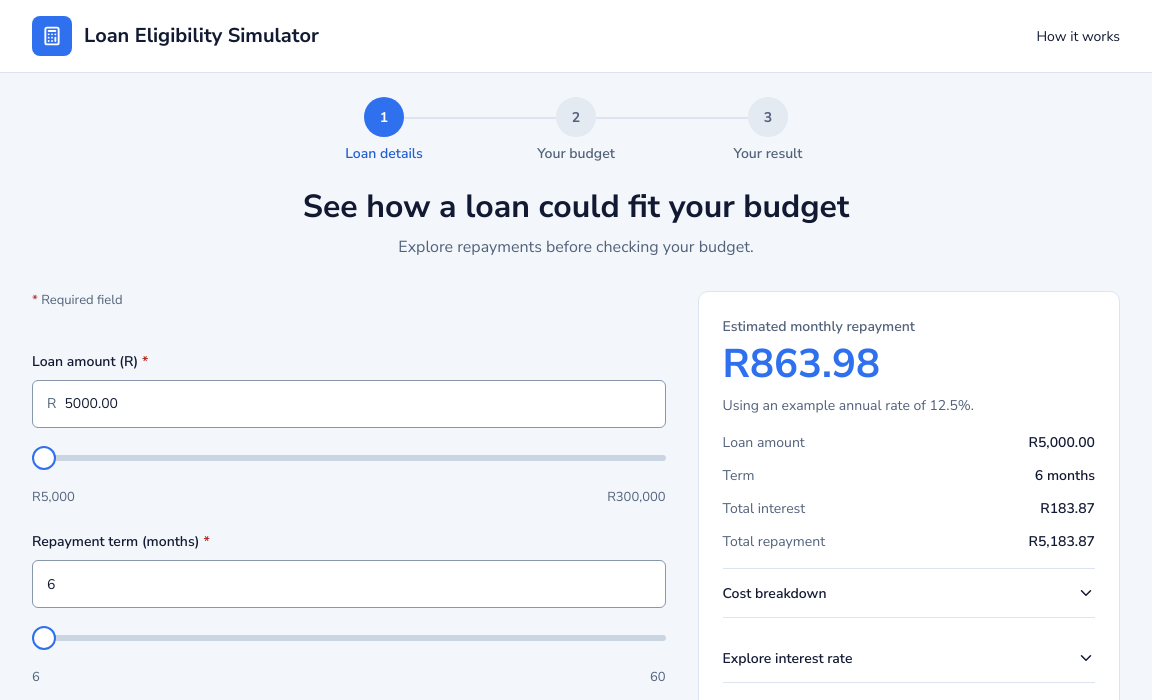
Test: LoanDetailsScreen › updates the estimate when amount and term change via sliders
Set the slider named "Adjust Loan amount" to "50000". click: (134, 458)
box: [32,436,666,480]
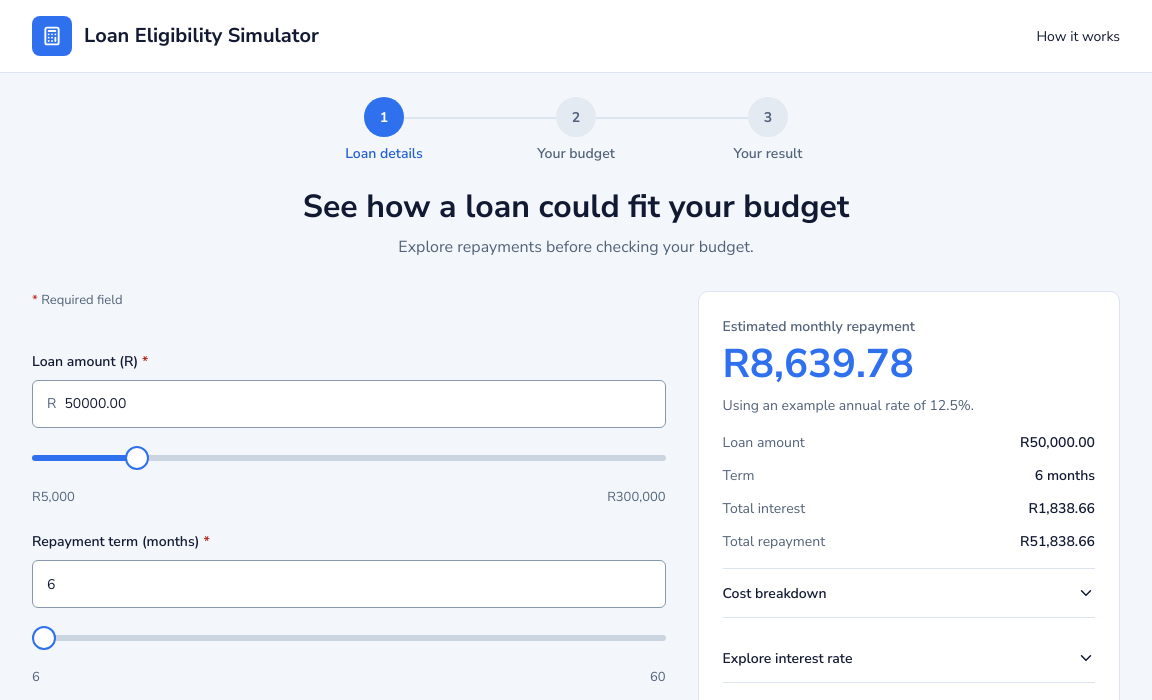
Set the slider named "Adjust Repayment term" to "24". click: (246, 638)
box: [32,616,666,660]
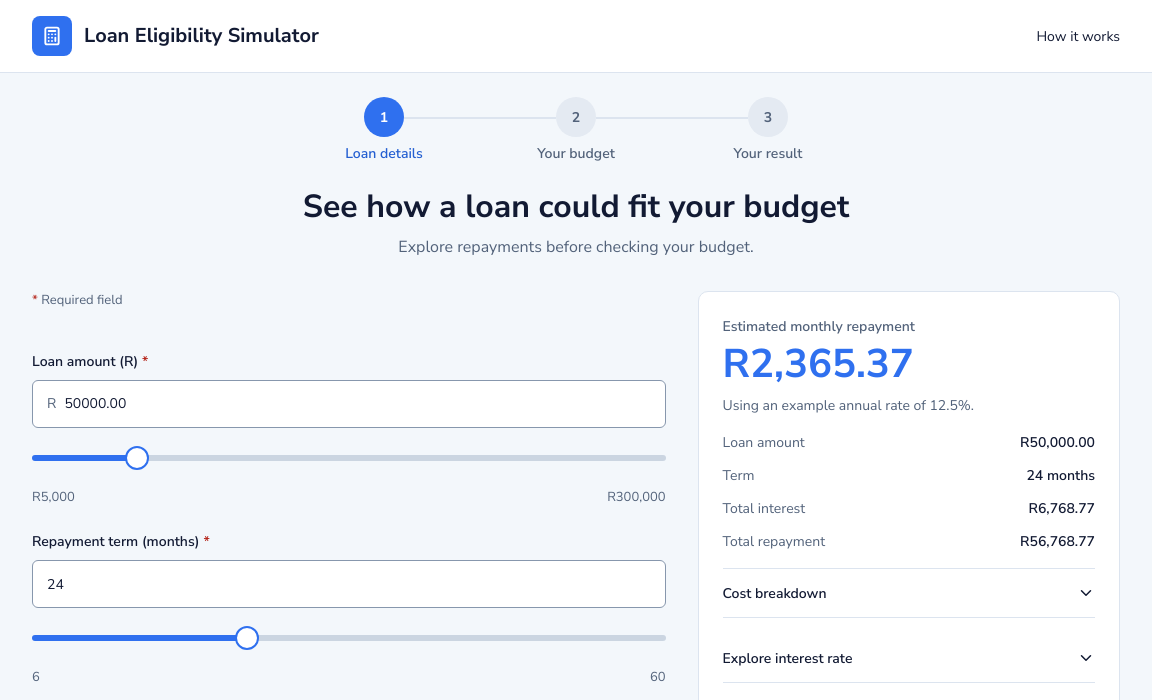
Result: the text "R2,365.37" is shown at [723,337,914,391]
Result: the text "R6,768.77" is shown at [1028,498,1095,519]
Result: the text "R56,768.77" is shown at [1020,531,1095,552]
